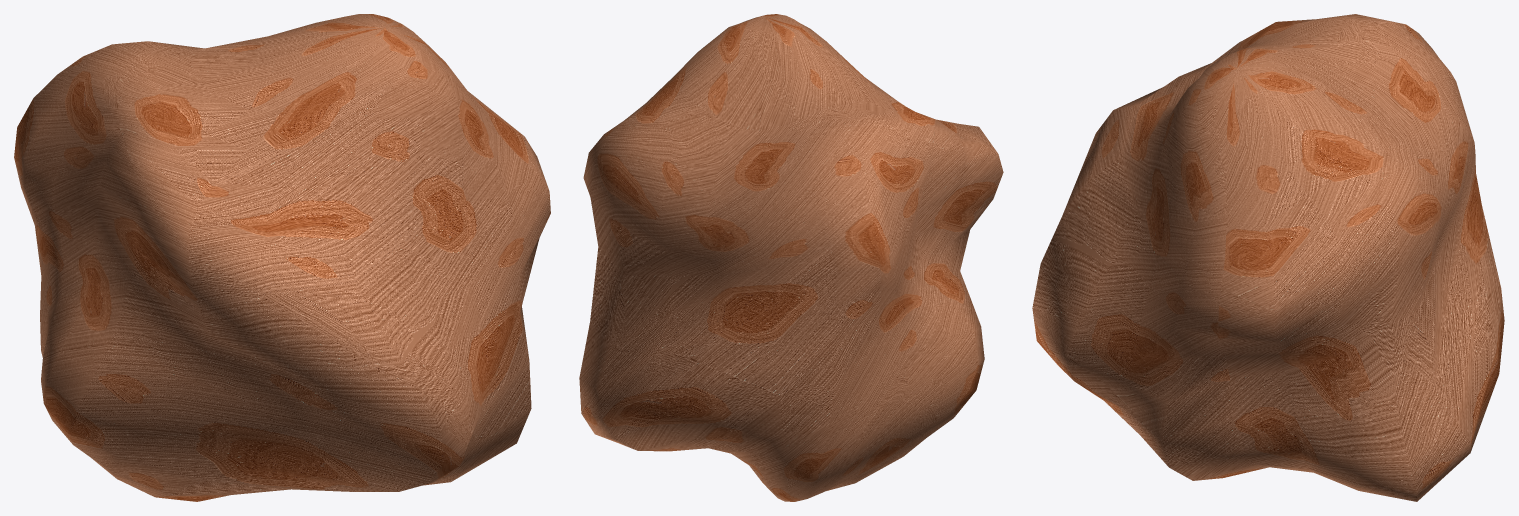
File: meteo_03.obj
3 views of the same model, side by side, from view 1: azimuth 30°, elevation 25°; view 2: azimuth 150°, elevation 25°; view 3: azimuth 270°, elevation 25° (orthographic). The views are drawn at different scales.
Visible parts, largest first — view 1: pSphere1; view 2: pSphere1; view 3: pSphere1.
Part boxes in pixels (left/top/right/bottom): pSphere1: left=14, top=14, right=550, bottom=501; pSphere1: left=579, top=14, right=1003, bottom=501; pSphere1: left=1032, top=14, right=1504, bottom=501.
Size of the model in its own units: 2.37 by 2.32 by 2.36.
Materials: 1 (1 with a texture image).
